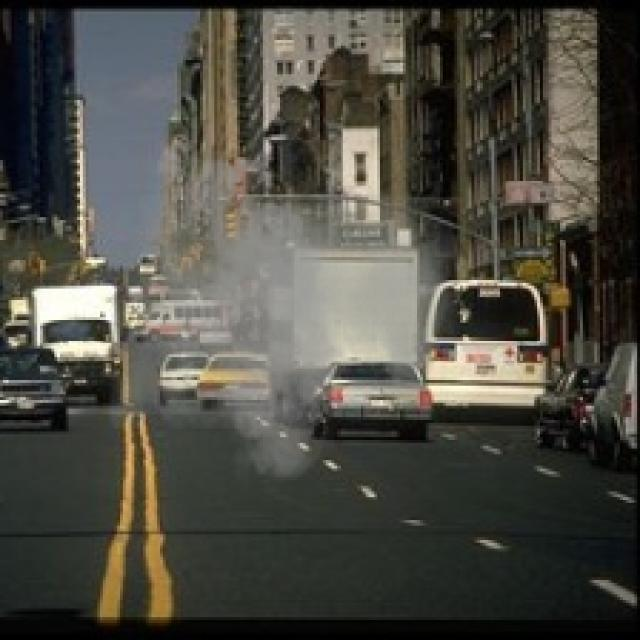Smoke: (108, 128, 460, 494)
